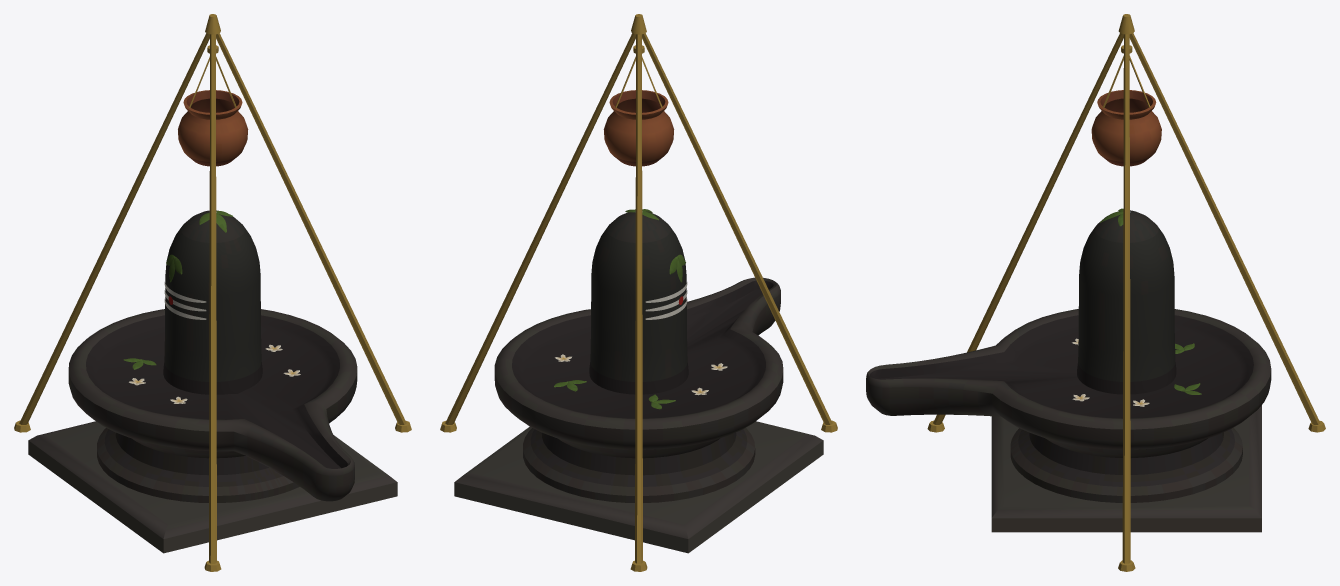
File: linga.glb
3 renders of one model, left to right at view 1: azimuth 30°, elevation 25°; view 2: azimuth 150°, elevation 25°; view 3: azimuth 270°, elevation 25°, orthographic.
Visible parts, largest first — view 1: linga; view 2: linga; view 3: linga.
Boxes of the visible parts, x1,y1,x2,y2 form: linga: [14, 14, 411, 571]; linga: [440, 14, 837, 571]; linga: [866, 14, 1325, 571].
Bounding box in the file's own units: 1.19 × 1.62 × 1.46.
